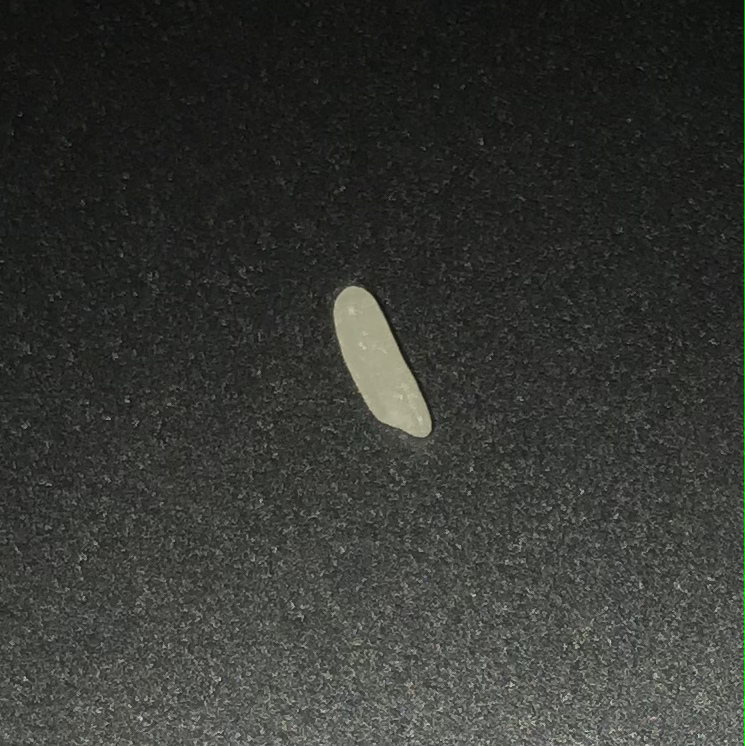Gao Tam Thom: (317, 267, 448, 464)
